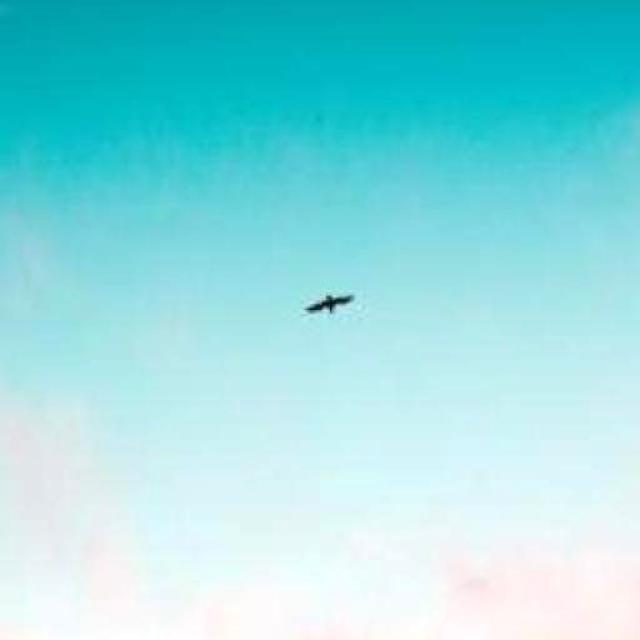airplane: (304, 292, 354, 319)
